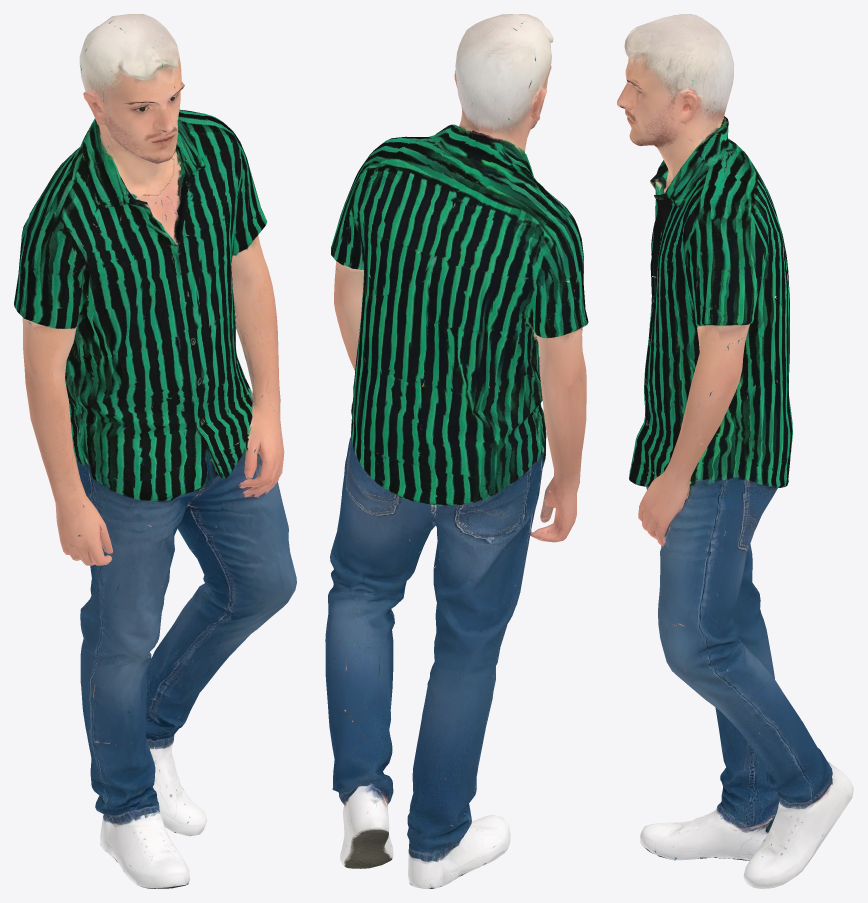
Rendered from green-striped-shirt-portrait.glb.
3 renders of one model, left to right at view 1: azimuth 30°, elevation 25°; view 2: azimuth 150°, elevation 25°; view 3: azimuth 270°, elevation 25°, orthographic. The views are drawn at different scales.
Visible parts, largest first — view 1: mesh_0; view 2: mesh_0; view 3: mesh_0.
Boxes of the visible parts, left/top/right/bottom form: mesh_0: left=14, top=14, right=296, bottom=888; mesh_0: left=325, top=14, right=588, bottom=888; mesh_0: left=617, top=14, right=853, bottom=888.
Size of the model in its own units: 57.87 by 183 by 47.9.
1 material, 1 textured.
